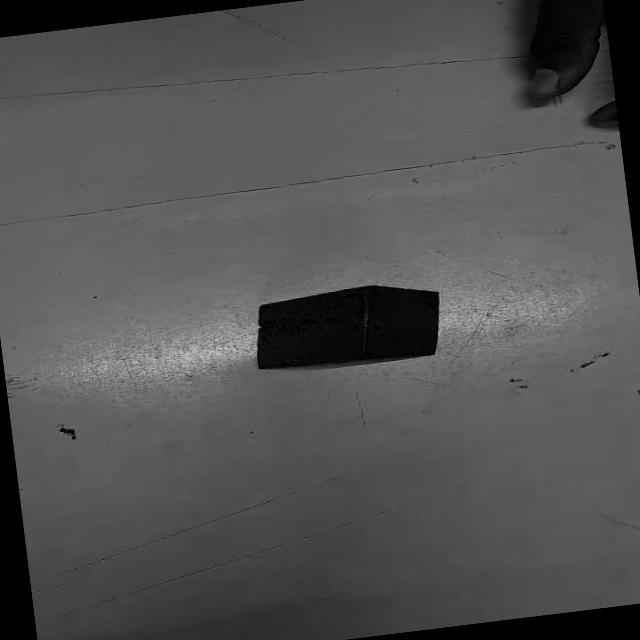rtriangle: (248, 278, 445, 376)
